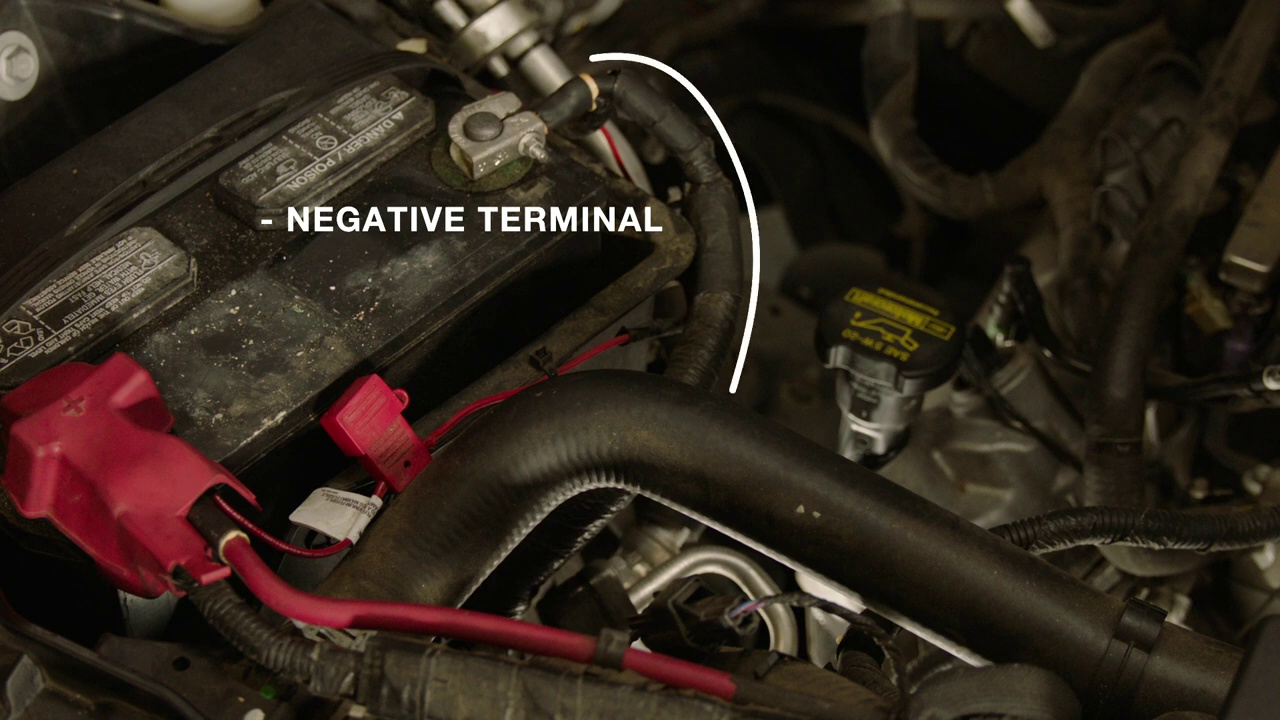battery: (4, 11, 605, 598)
neg_connected: (392, 62, 591, 192)
pos_connected: (24, 334, 250, 594)
